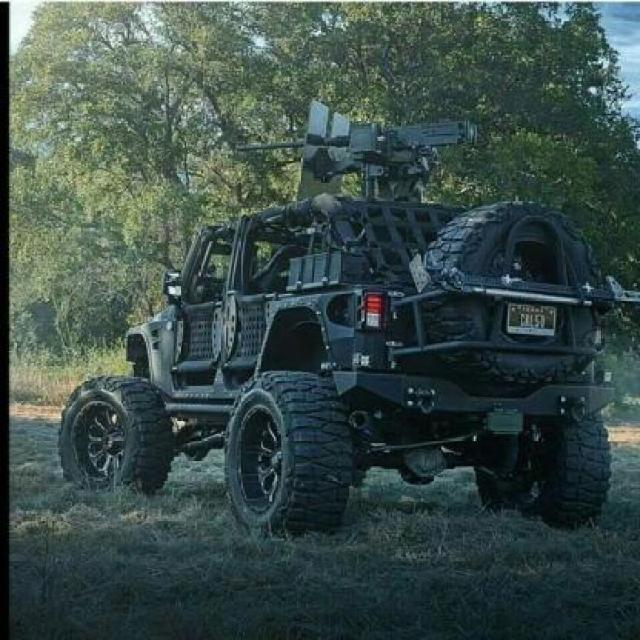Jeep: (58, 192, 613, 540)
